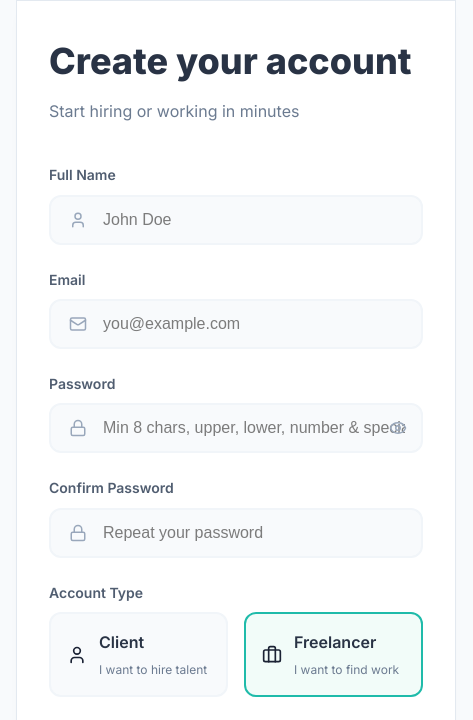
Test case: Register Component › shows error if password is weak
Type "Test" into the field labelled "Full Name" at (236,220), box top-left (49, 195), bottom-right (423, 245)
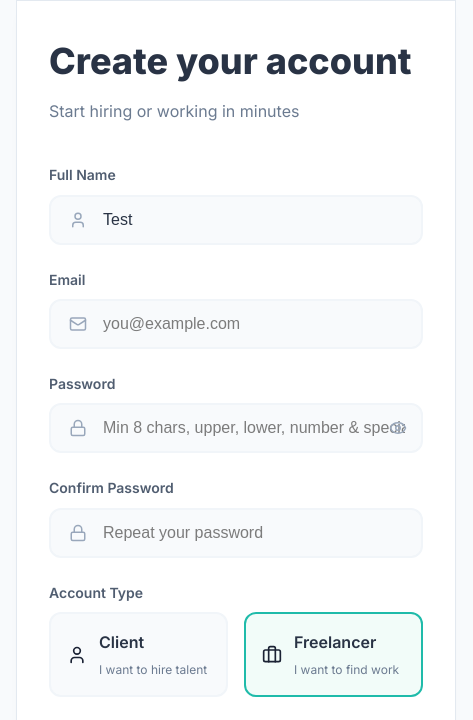
Type "test@test.com" into the field labelled "Email" at (236,324), box top-left (49, 299), bottom-right (423, 349)
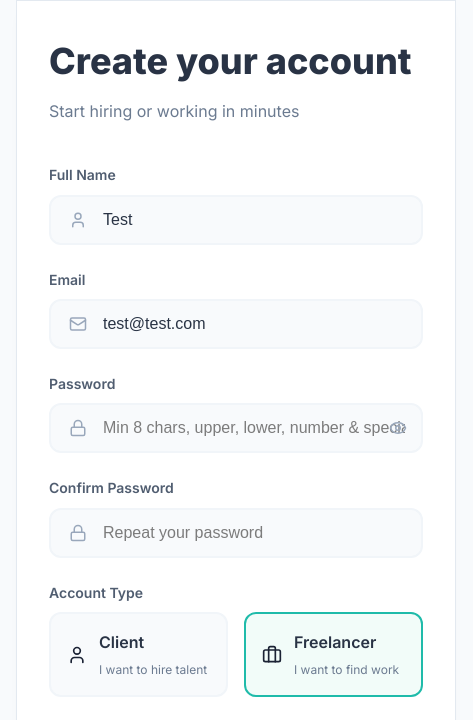
Type "weakpass" into the password field labelled "Password" at (236,428), box top-left (49, 403), bottom-right (423, 453)
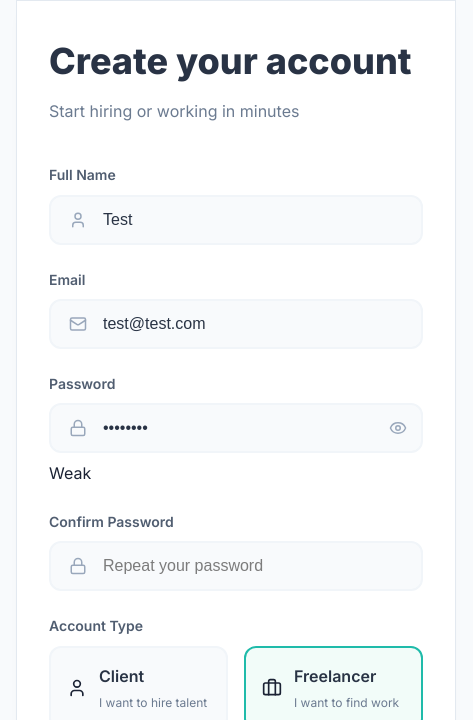
Type "weakpass" into the password field labelled "Confirm Password" at (236,566), box top-left (49, 541), bottom-right (423, 591)
(page scrolled)
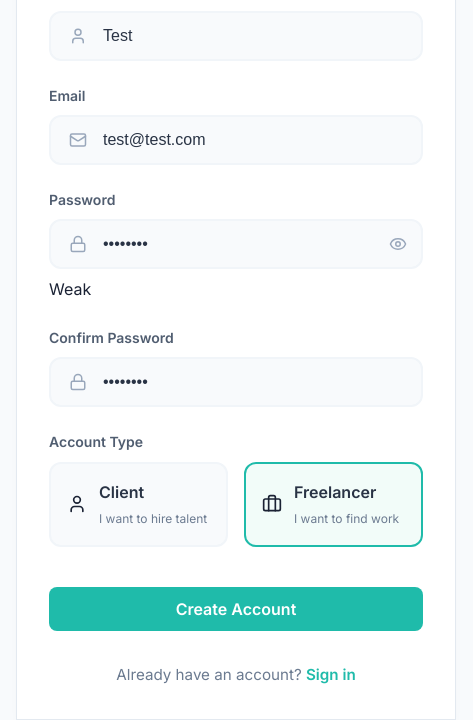
Click the button "Create Account" at (236,608), box top-left (49, 586), bottom-right (423, 630)
(page scrolled)
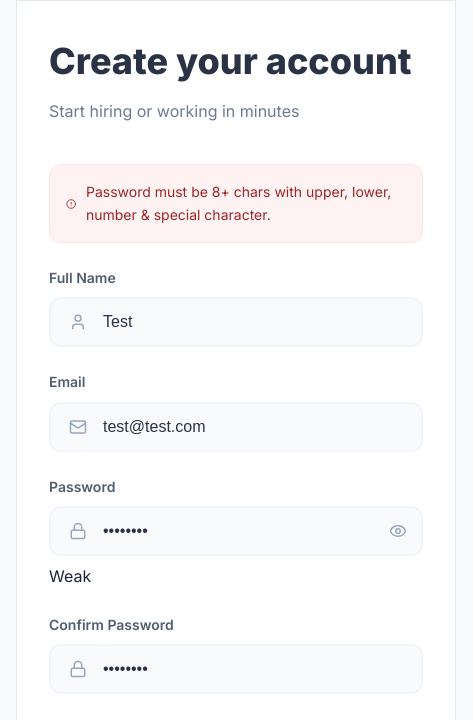
Expected: the text "Password must be 8+ chars with upper, lower, number & special character." is shown, top-left (86, 181), bottom-right (406, 226)
